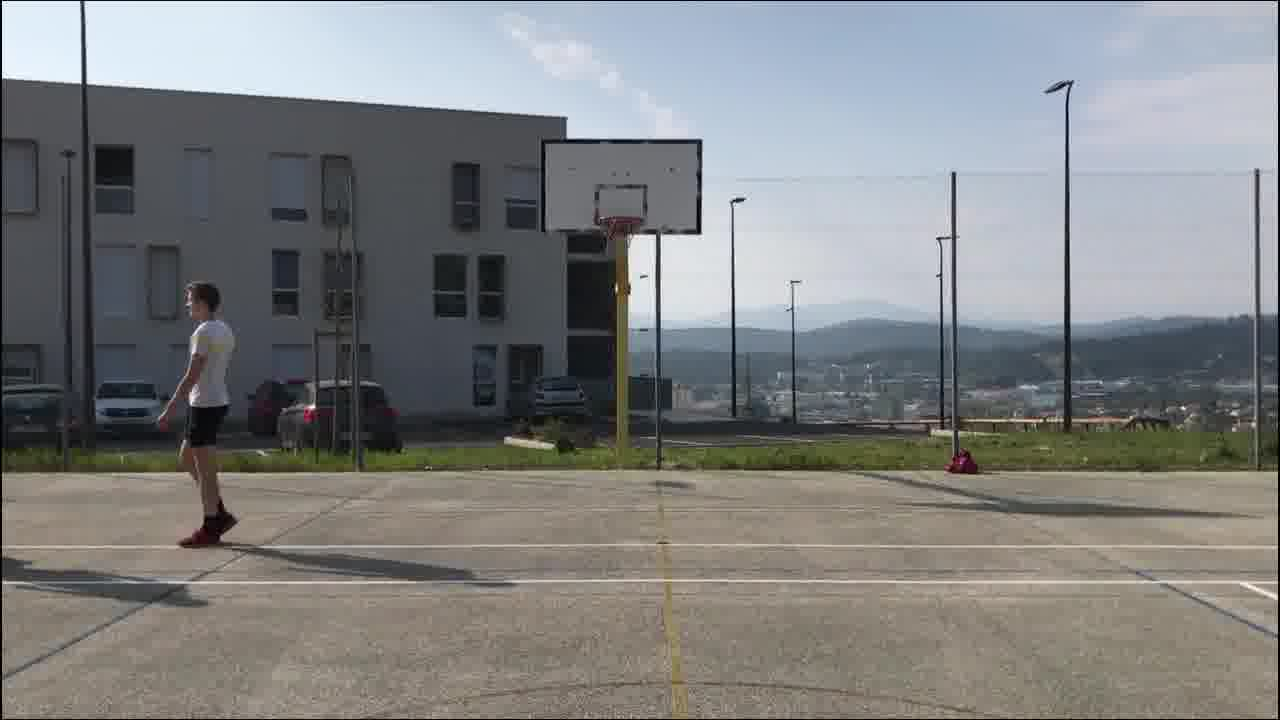jugador: (146, 269, 248, 559)
